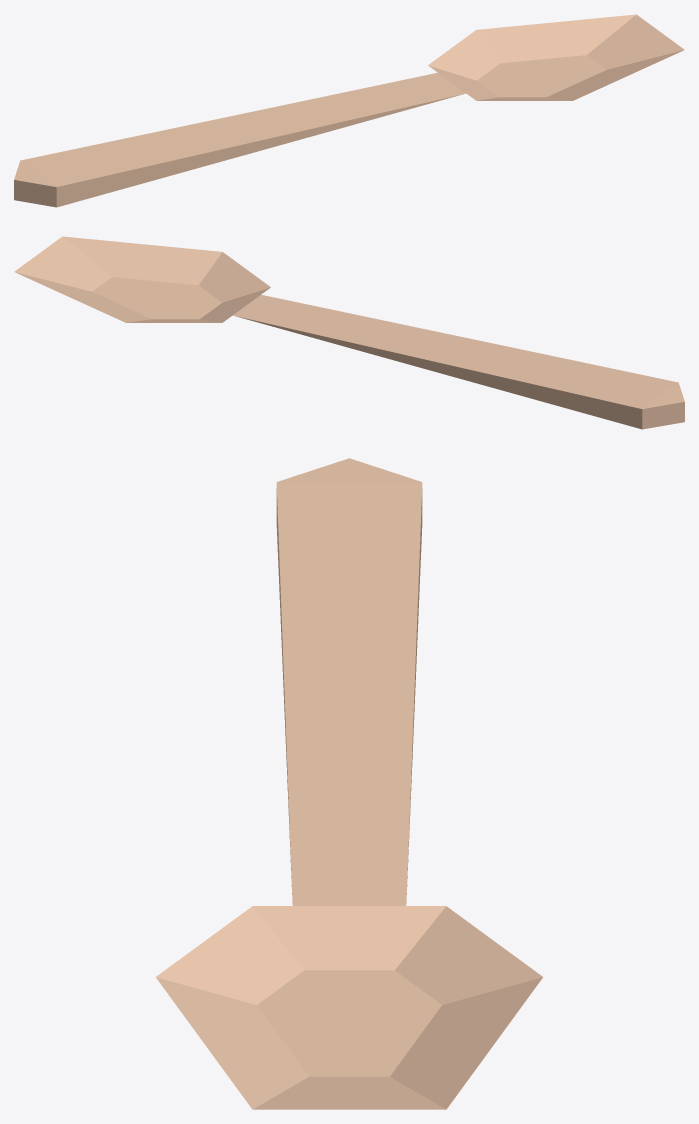
The model's file is spoon.glb.
3 views of the same model, one above another, from view 1: azimuth 30°, elevation 25°; view 2: azimuth 150°, elevation 25°; view 3: azimuth 270°, elevation 25° (orthographic). The views are drawn at different scales.
Visible parts, largest first — view 1: cookingSpoon; view 2: cookingSpoon; view 3: cookingSpoon.
Part boxes in pixels (<box>): cookingSpoon: <box>14,14,684,207</box>; cookingSpoon: <box>14,236,684,429</box>; cookingSpoon: <box>156,458,542,1109</box>.
Bounding box in the file's own units: 0.6656 × 0.0244 × 0.1728.
